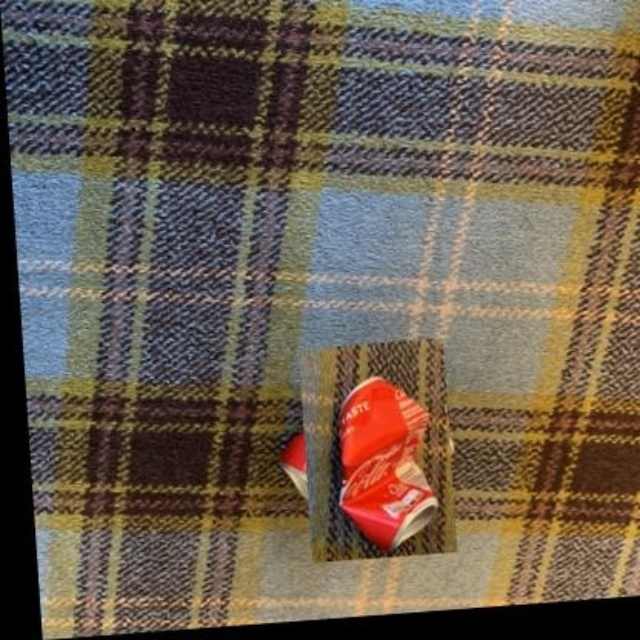trash: (340, 377, 437, 549)
